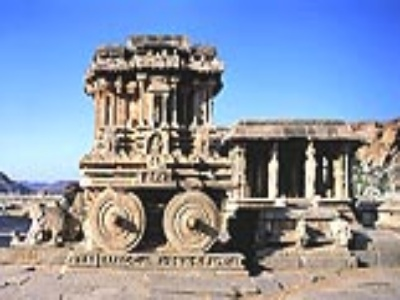mandapa: (223, 105, 372, 219)
